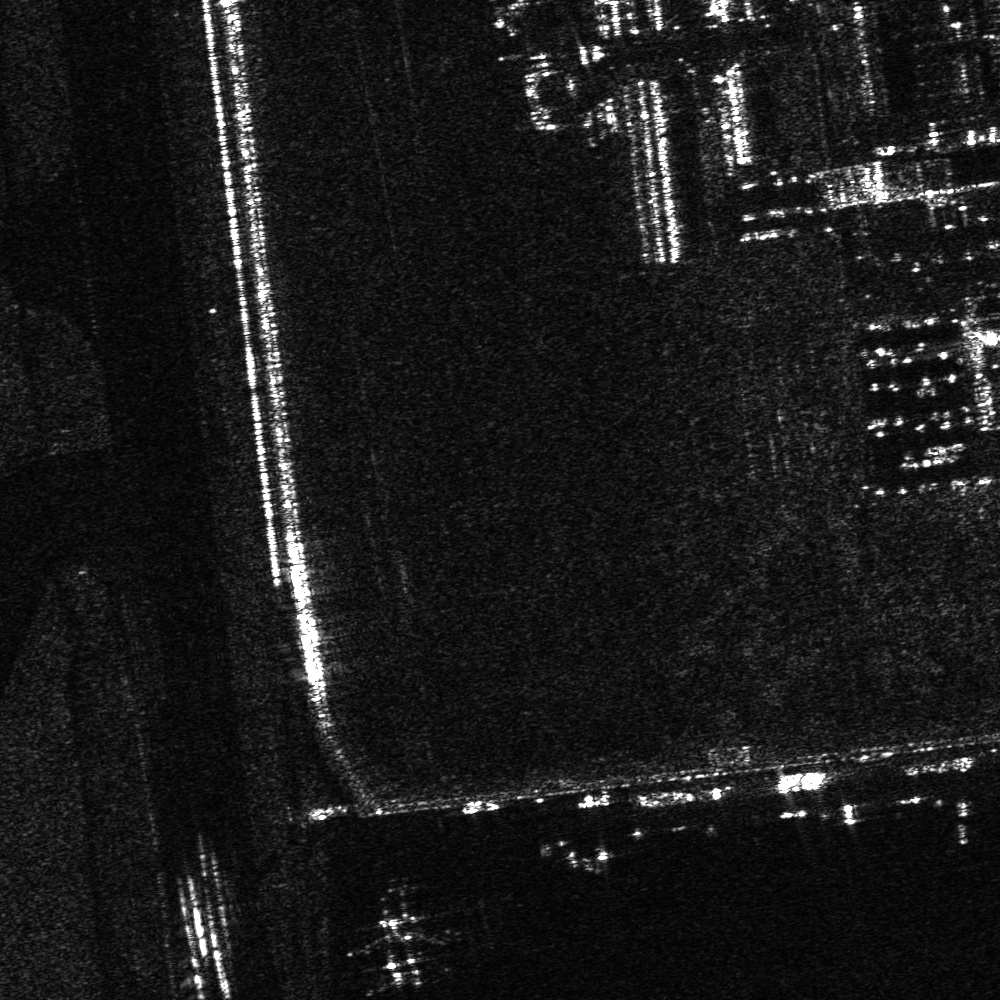A220: (345, 894, 452, 999)
